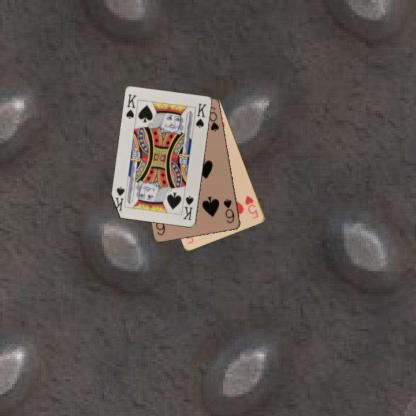5h: (242, 193, 260, 220)
6s: (221, 196, 236, 225)
Ks: (180, 193, 195, 221), (124, 92, 138, 120)
